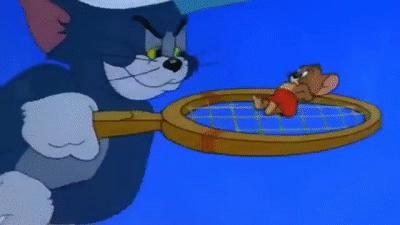jerry: (252, 63, 340, 118)
